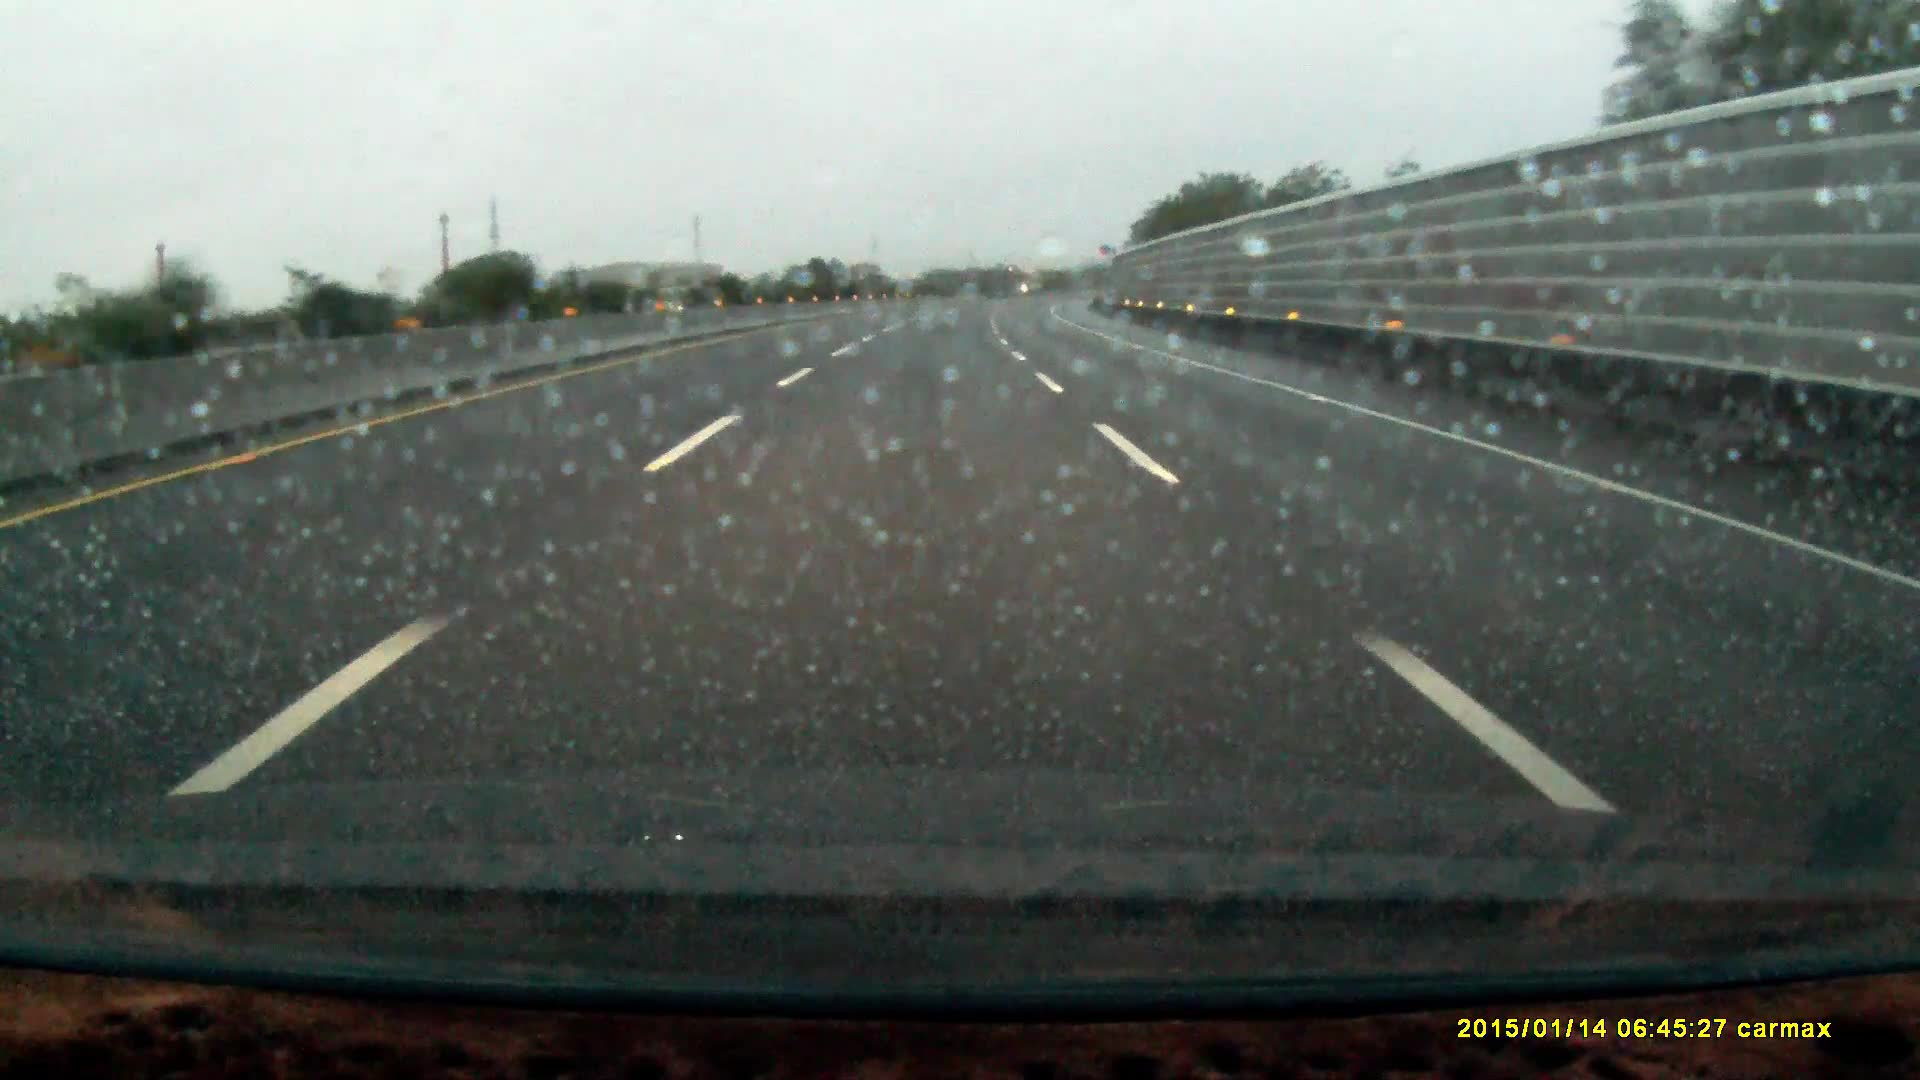vehicle: (640, 287, 707, 313)
